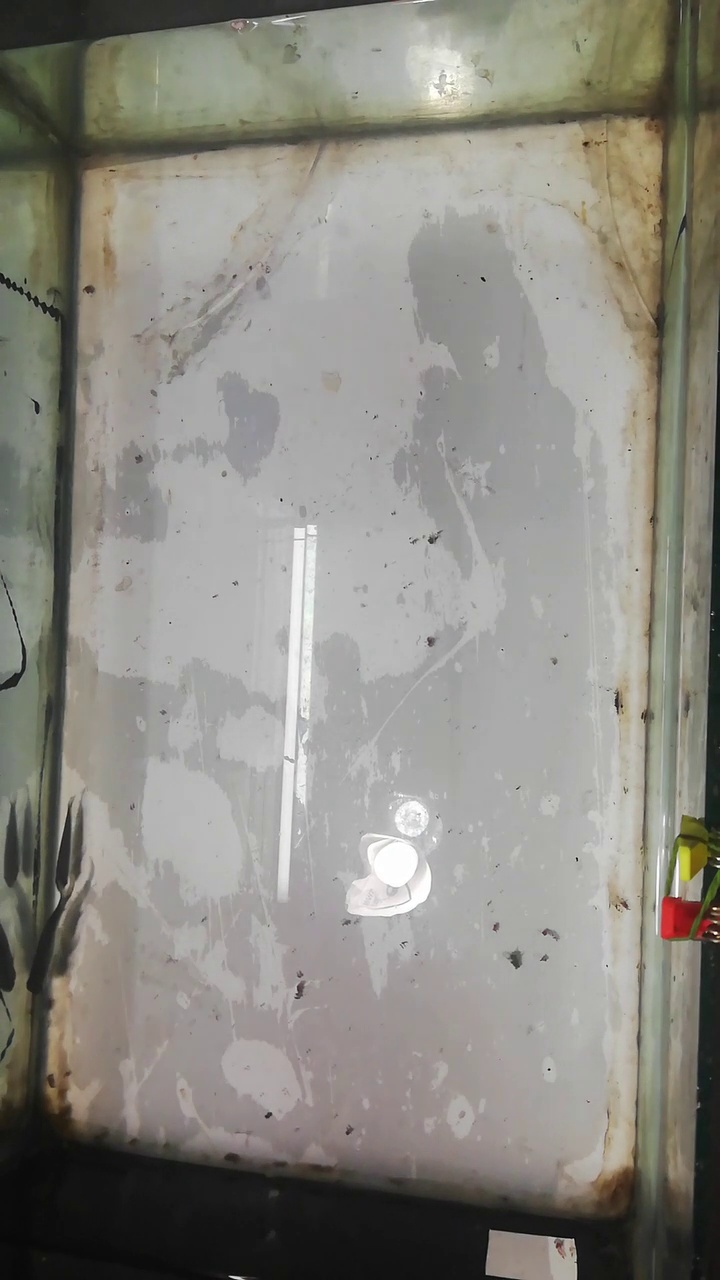fish1: (50, 890, 83, 977)
fish2: (57, 800, 86, 889)
